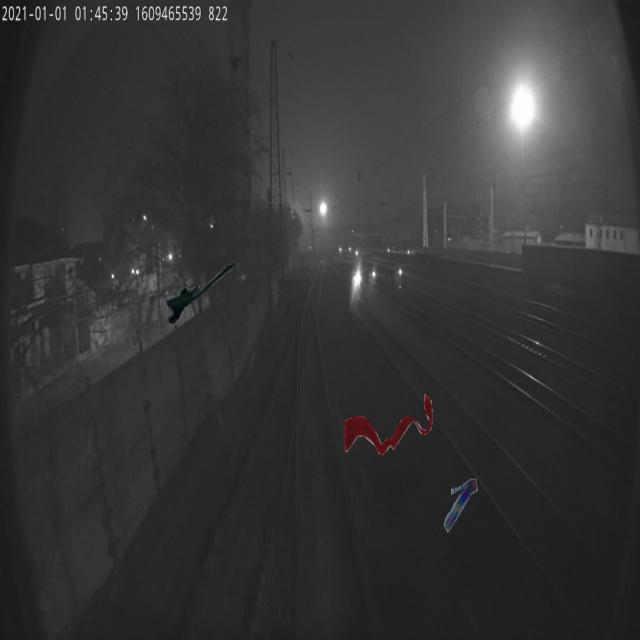floating object: (344, 392, 434, 457), (166, 262, 242, 326), (443, 474, 478, 538)
